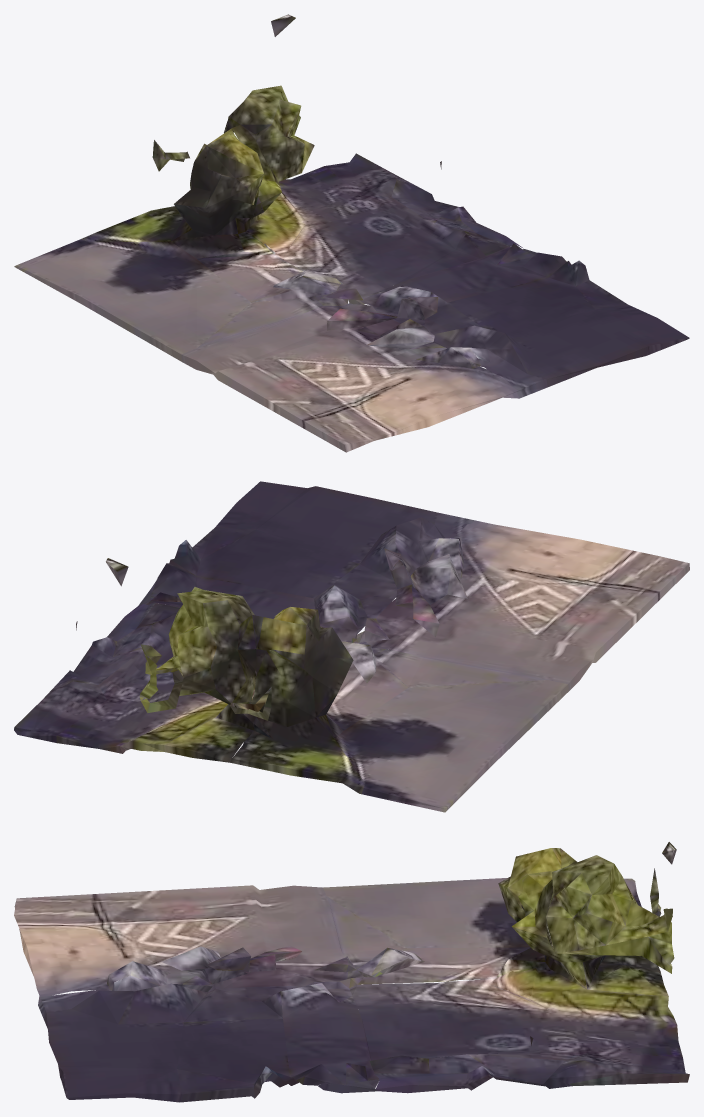
3 renders of one model, top to bottom at view 1: azimuth 30°, elevation 25°; view 2: azimuth 150°, elevation 25°; view 3: azimuth 270°, elevation 25°, orthographic. The views are drawn at different scales.
Parts seen in each view (by area): view 1: Mesh_0; view 2: Mesh_0; view 3: Mesh_0.
Boxes of the visible parts, x1,y1,x2,y2 form: Mesh_0: (14,14,689,452); Mesh_0: (14,481,689,812); Mesh_0: (14,842,689,1102).
Bounding box in the file's own units: 33.31 × 12.98 × 41.32.
Materials: 1 (1 with a texture image).
